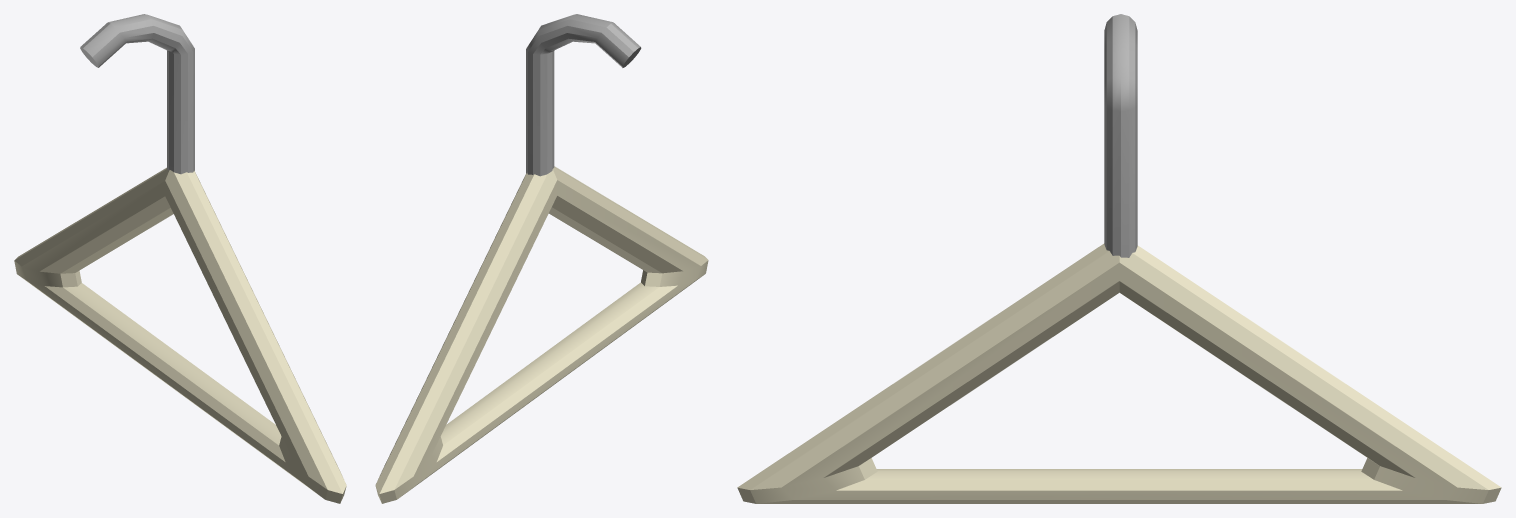
The model's file is hanger.fbx.
The picture shows the model from 3 angles, left to right: view 1: azimuth 30°, elevation 25°; view 2: azimuth 150°, elevation 25°; view 3: azimuth 270°, elevation 25°; orthographic projection. The views are drawn at different scales.
Visible parts, largest first — view 1: pTorus1, pCylinder11; view 2: pTorus1, pCylinder11; view 3: pTorus1, pCylinder11.
Boxes of the visible parts, x1,y1,x2,y2 form: pTorus1: (14, 167, 346, 503); pCylinder11: (80, 14, 194, 174); pTorus1: (375, 166, 708, 503); pCylinder11: (526, 14, 641, 176); pTorus1: (737, 243, 1501, 503); pCylinder11: (1104, 14, 1137, 257).
Size of the model in its own units: 5.58 by 18.07 by 27.98.
